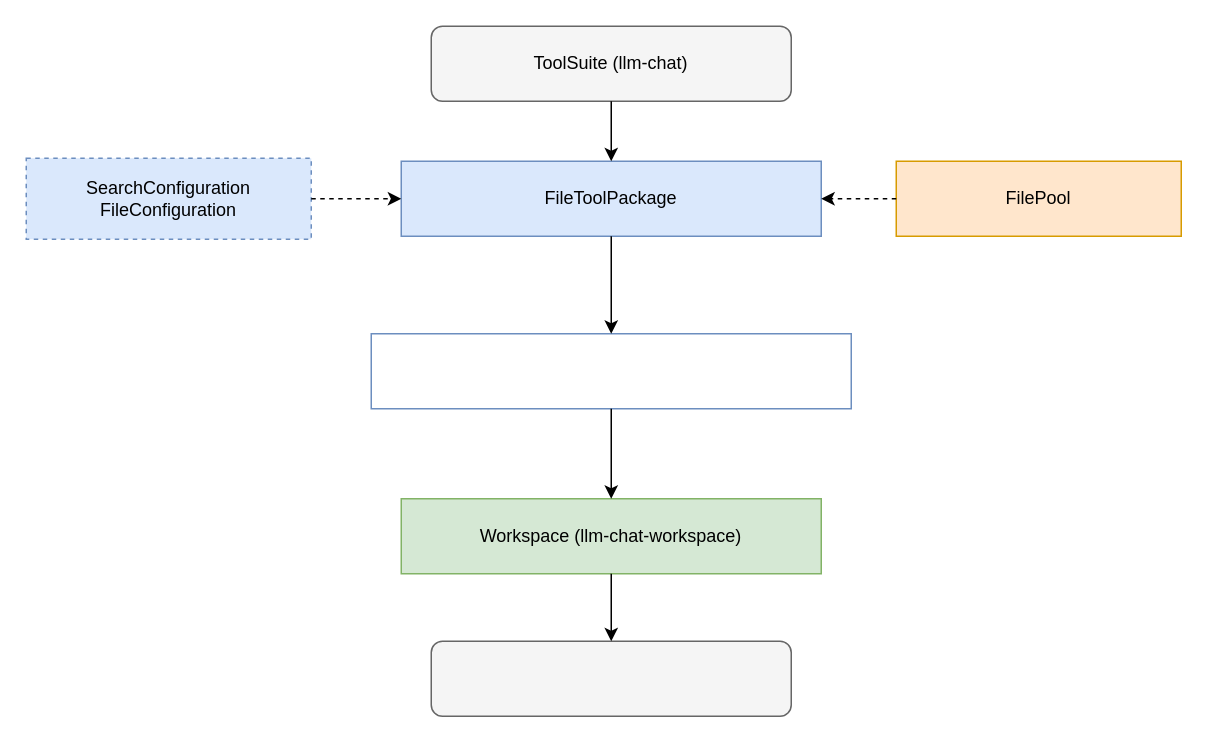
Image size: 1208x743. Some labels were removed from this diagram. Here are the shapes that lost their labels. From the top down, the centre of each, then its label:
the point at 610,370: Filesystem tools
the point at 610,678: Filesystem
